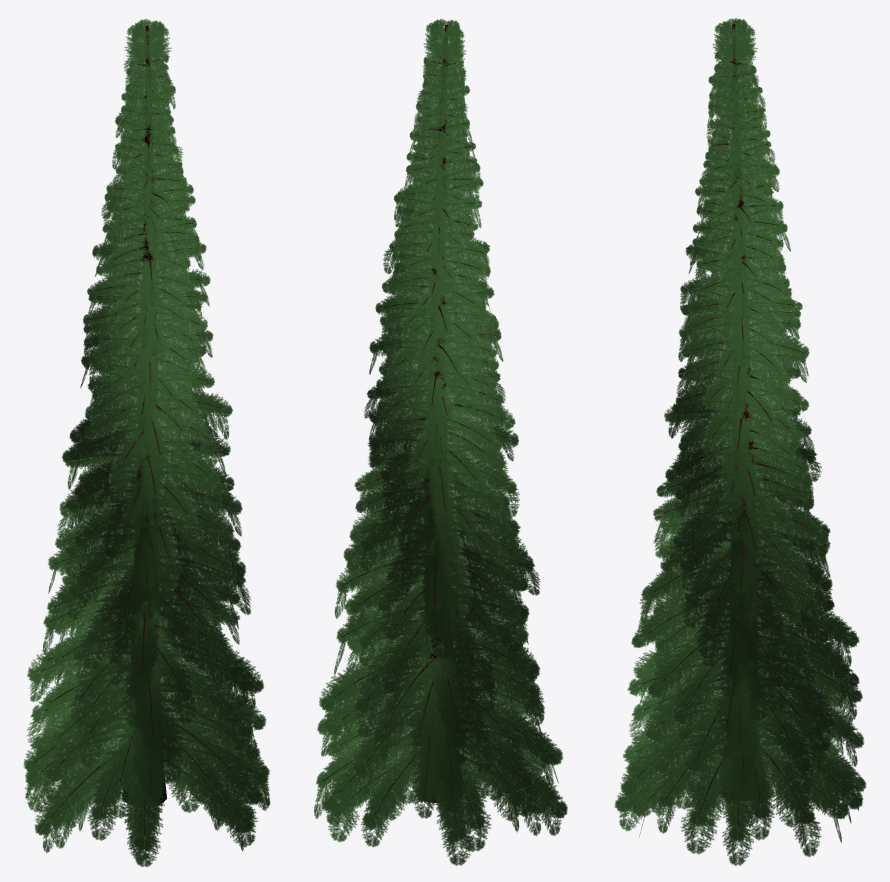
Rendered from spruce_conifer_v01.glb.
3 views of the same model, side by side, from view 1: azimuth 30°, elevation 25°; view 2: azimuth 150°, elevation 25°; view 3: azimuth 270°, elevation 25° (orthographic).
Parts seen in each view (by area): view 1: spruce_conifer_v01; view 2: spruce_conifer_v01; view 3: spruce_conifer_v01.
Part boxes in pixels (bbox=[...]): spruce_conifer_v01: bbox=[23, 19, 270, 867]; spruce_conifer_v01: bbox=[314, 18, 567, 865]; spruce_conifer_v01: bbox=[614, 18, 866, 865].
Bounding box in the file's own units: 7.11 × 23.05 × 7.01.
2 materials, 2 textured.
